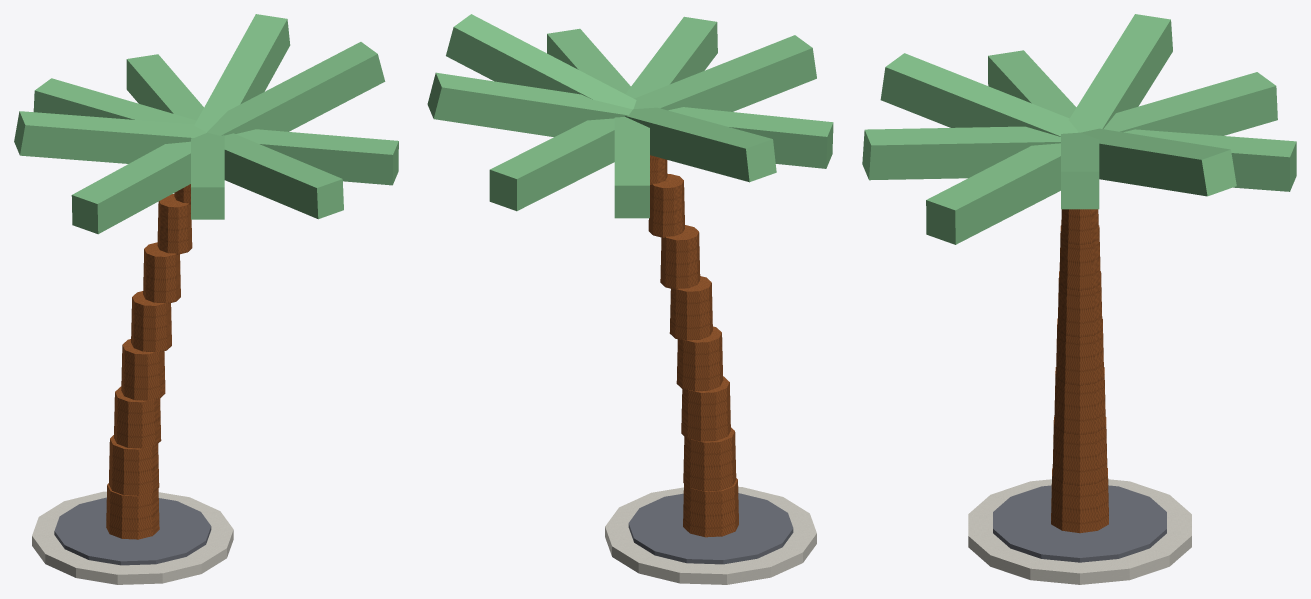
Rendered from theme-park-rides-and-coasters-theme-park-rides-and-coa-f3aec9f8__28704.glb.
The picture shows the model from 3 angles, left to right: view 1: azimuth 30°, elevation 25°; view 2: azimuth 150°, elevation 25°; view 3: azimuth 270°, elevation 25°; orthographic projection. The views are drawn at different scales.
Visible parts, largest first — view 1: theme-park-rides-and-coasters-palm-tree; view 2: theme-park-rides-and-coasters-palm-tree; view 3: theme-park-rides-and-coasters-palm-tree.
Part boxes in pixels (left/top/right/bottom): theme-park-rides-and-coasters-palm-tree: left=14, top=14, right=398, bottom=584; theme-park-rides-and-coasters-palm-tree: left=427, top=14, right=833, bottom=584; theme-park-rides-and-coasters-palm-tree: left=862, top=14, right=1296, bottom=584.
Bounding box in the file's own units: 3.41 × 4.3 × 3.41.
Materials: 5 (2 with a texture image).
